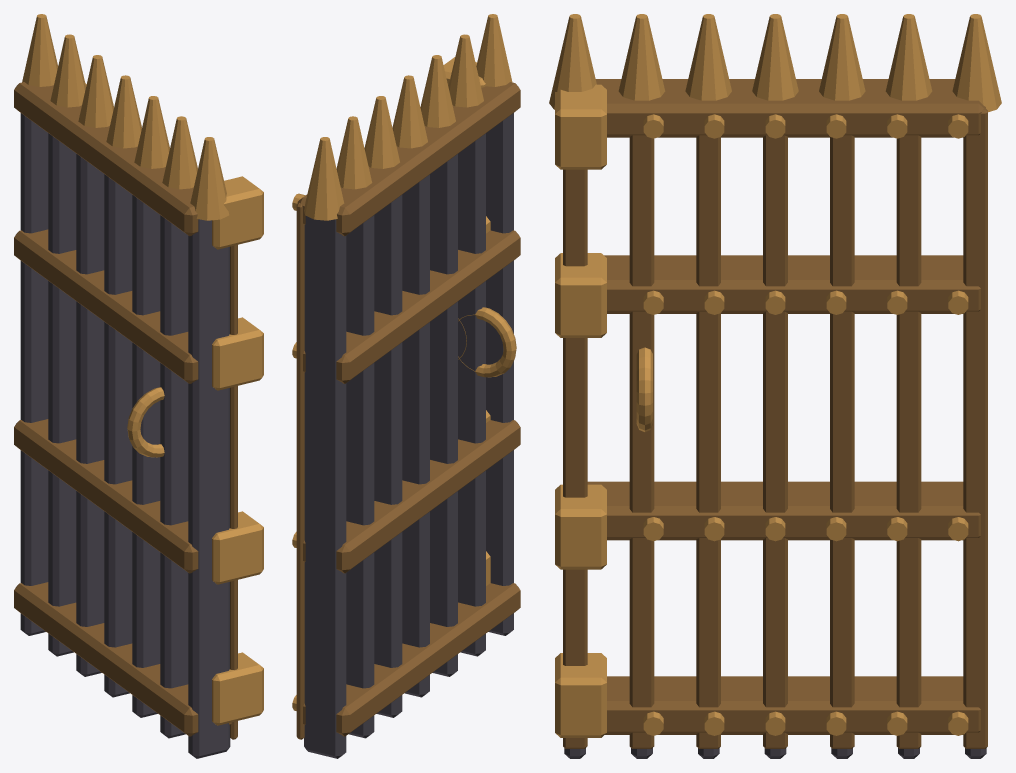
File: SM_RGB_Gate.fbx
3 views of the same model, side by side, from view 1: azimuth 30°, elevation 25°; view 2: azimuth 150°, elevation 25°; view 3: azimuth 270°, elevation 25° (orthographic). The views are drawn at different scales.
Visible parts, largest first — view 1: SM_RGB_Gate; view 2: SM_RGB_Gate; view 3: SM_RGB_Gate.
Boxes of the visible parts, x1=… form: SM_RGB_Gate: x1=14, y1=14, x2=263, y2=758; SM_RGB_Gate: x1=292, y1=14, x2=520, y2=758; SM_RGB_Gate: x1=549, y1=14, x2=1001, y2=758.
Bounding box in the file's own units: 50.6 × 156 × 279.
